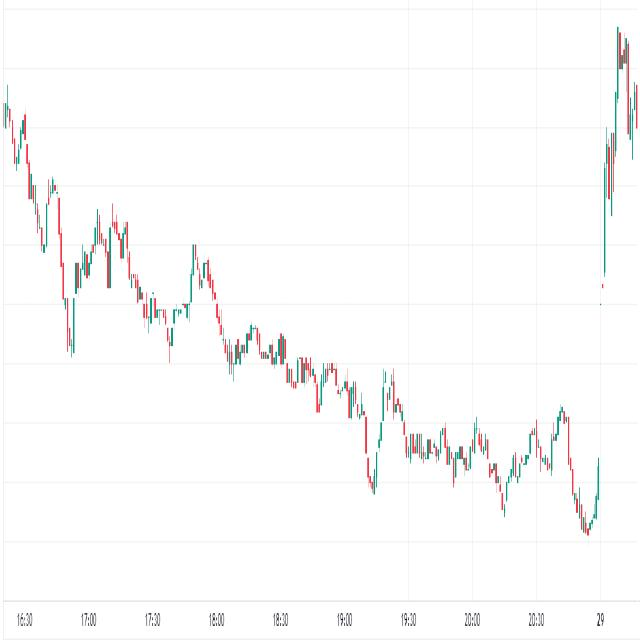Double-Top: (185, 232, 218, 319)
